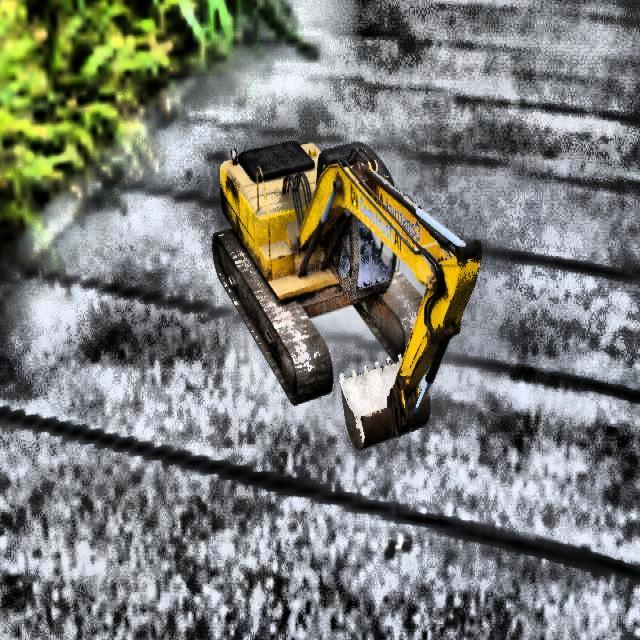excavator: (212, 140, 482, 450)
